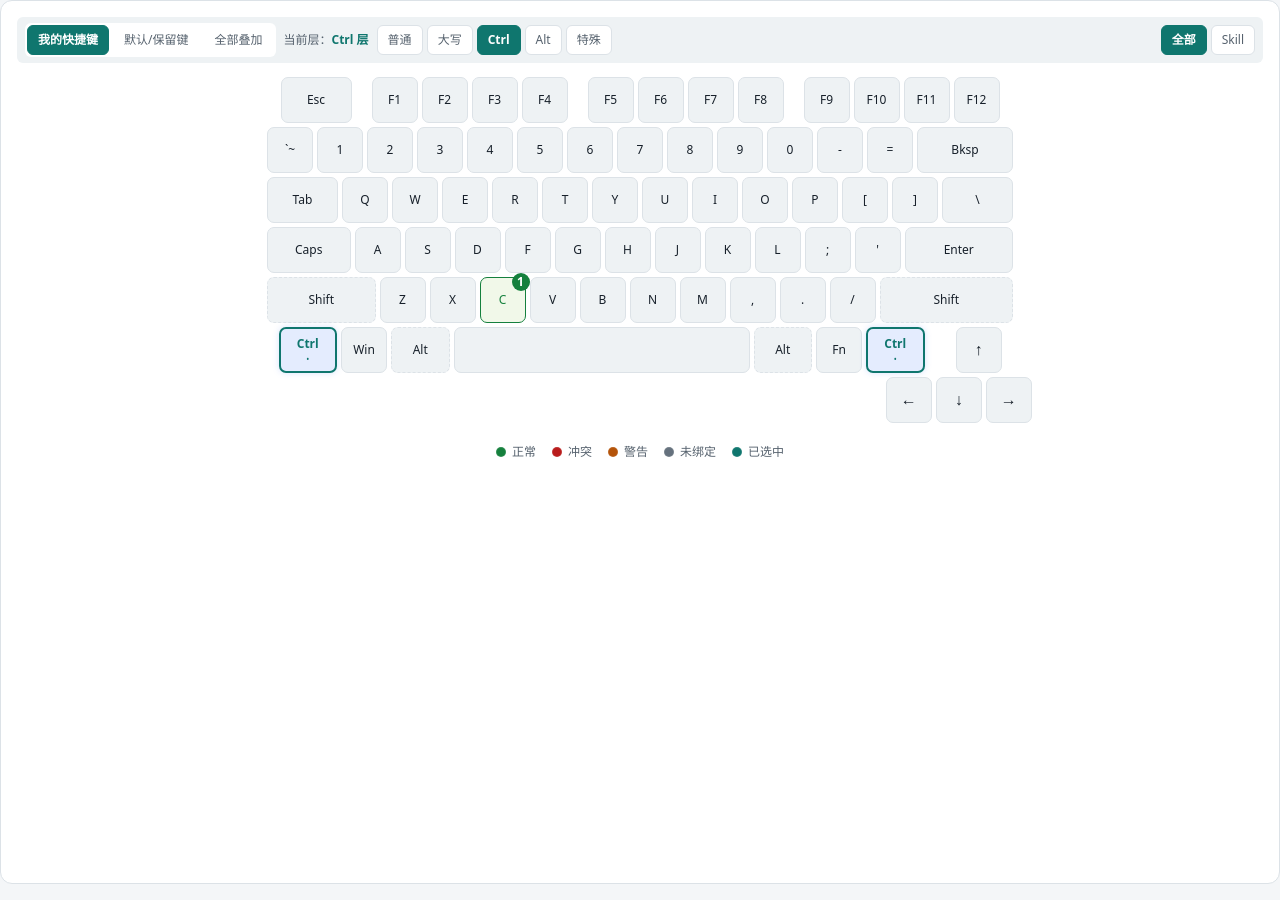
Test: keyboard visualizer fixed typography › renders keyboard-mappable alias bindings on the matching key
expect the text "C" is shown: met, box [499,291,506,308]
Hover over the text "C": (502, 300) [480,277,526,323]
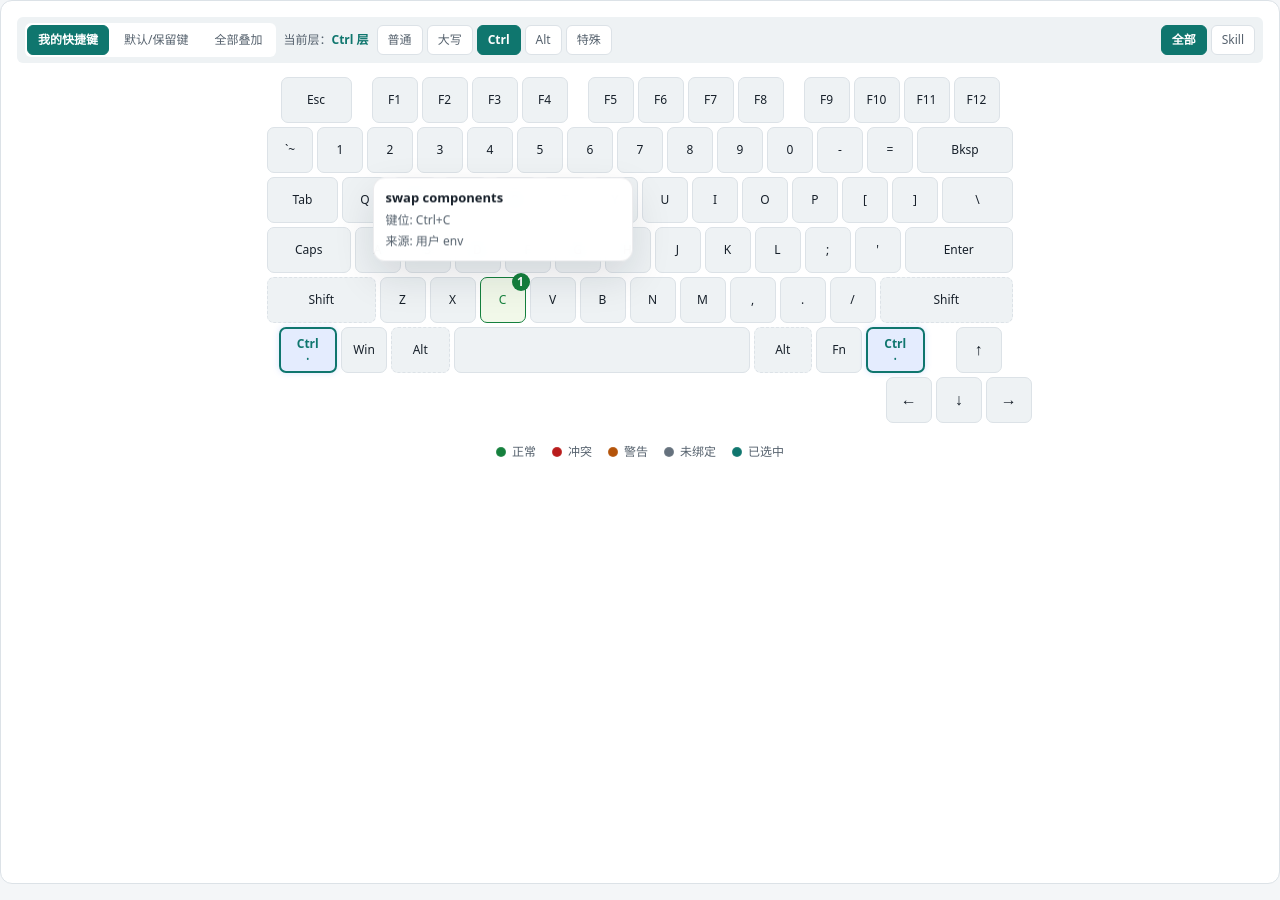
expect the text "swap components" is shown: met, box [386,188,503,206]
expect the text "键位: Ctrl+C" is shown: met, box [386,211,450,228]
expect the text "来源: 用户 env" is shown: met, box [386,233,463,250]
